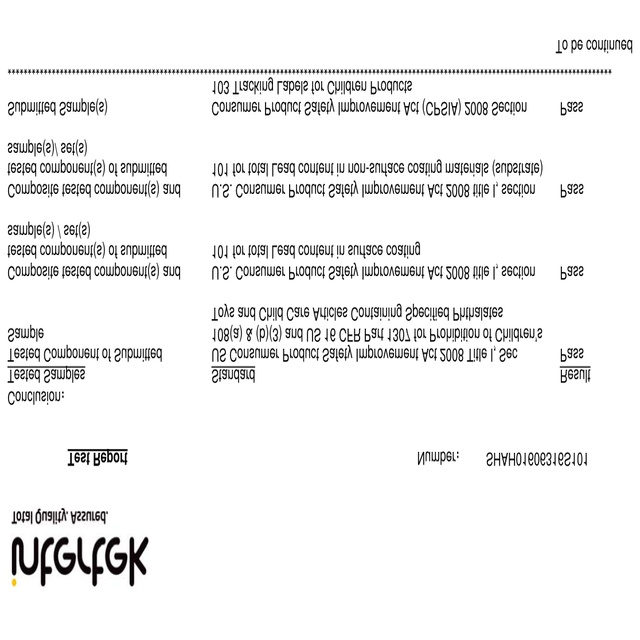intertek: (8, 528, 159, 589)
